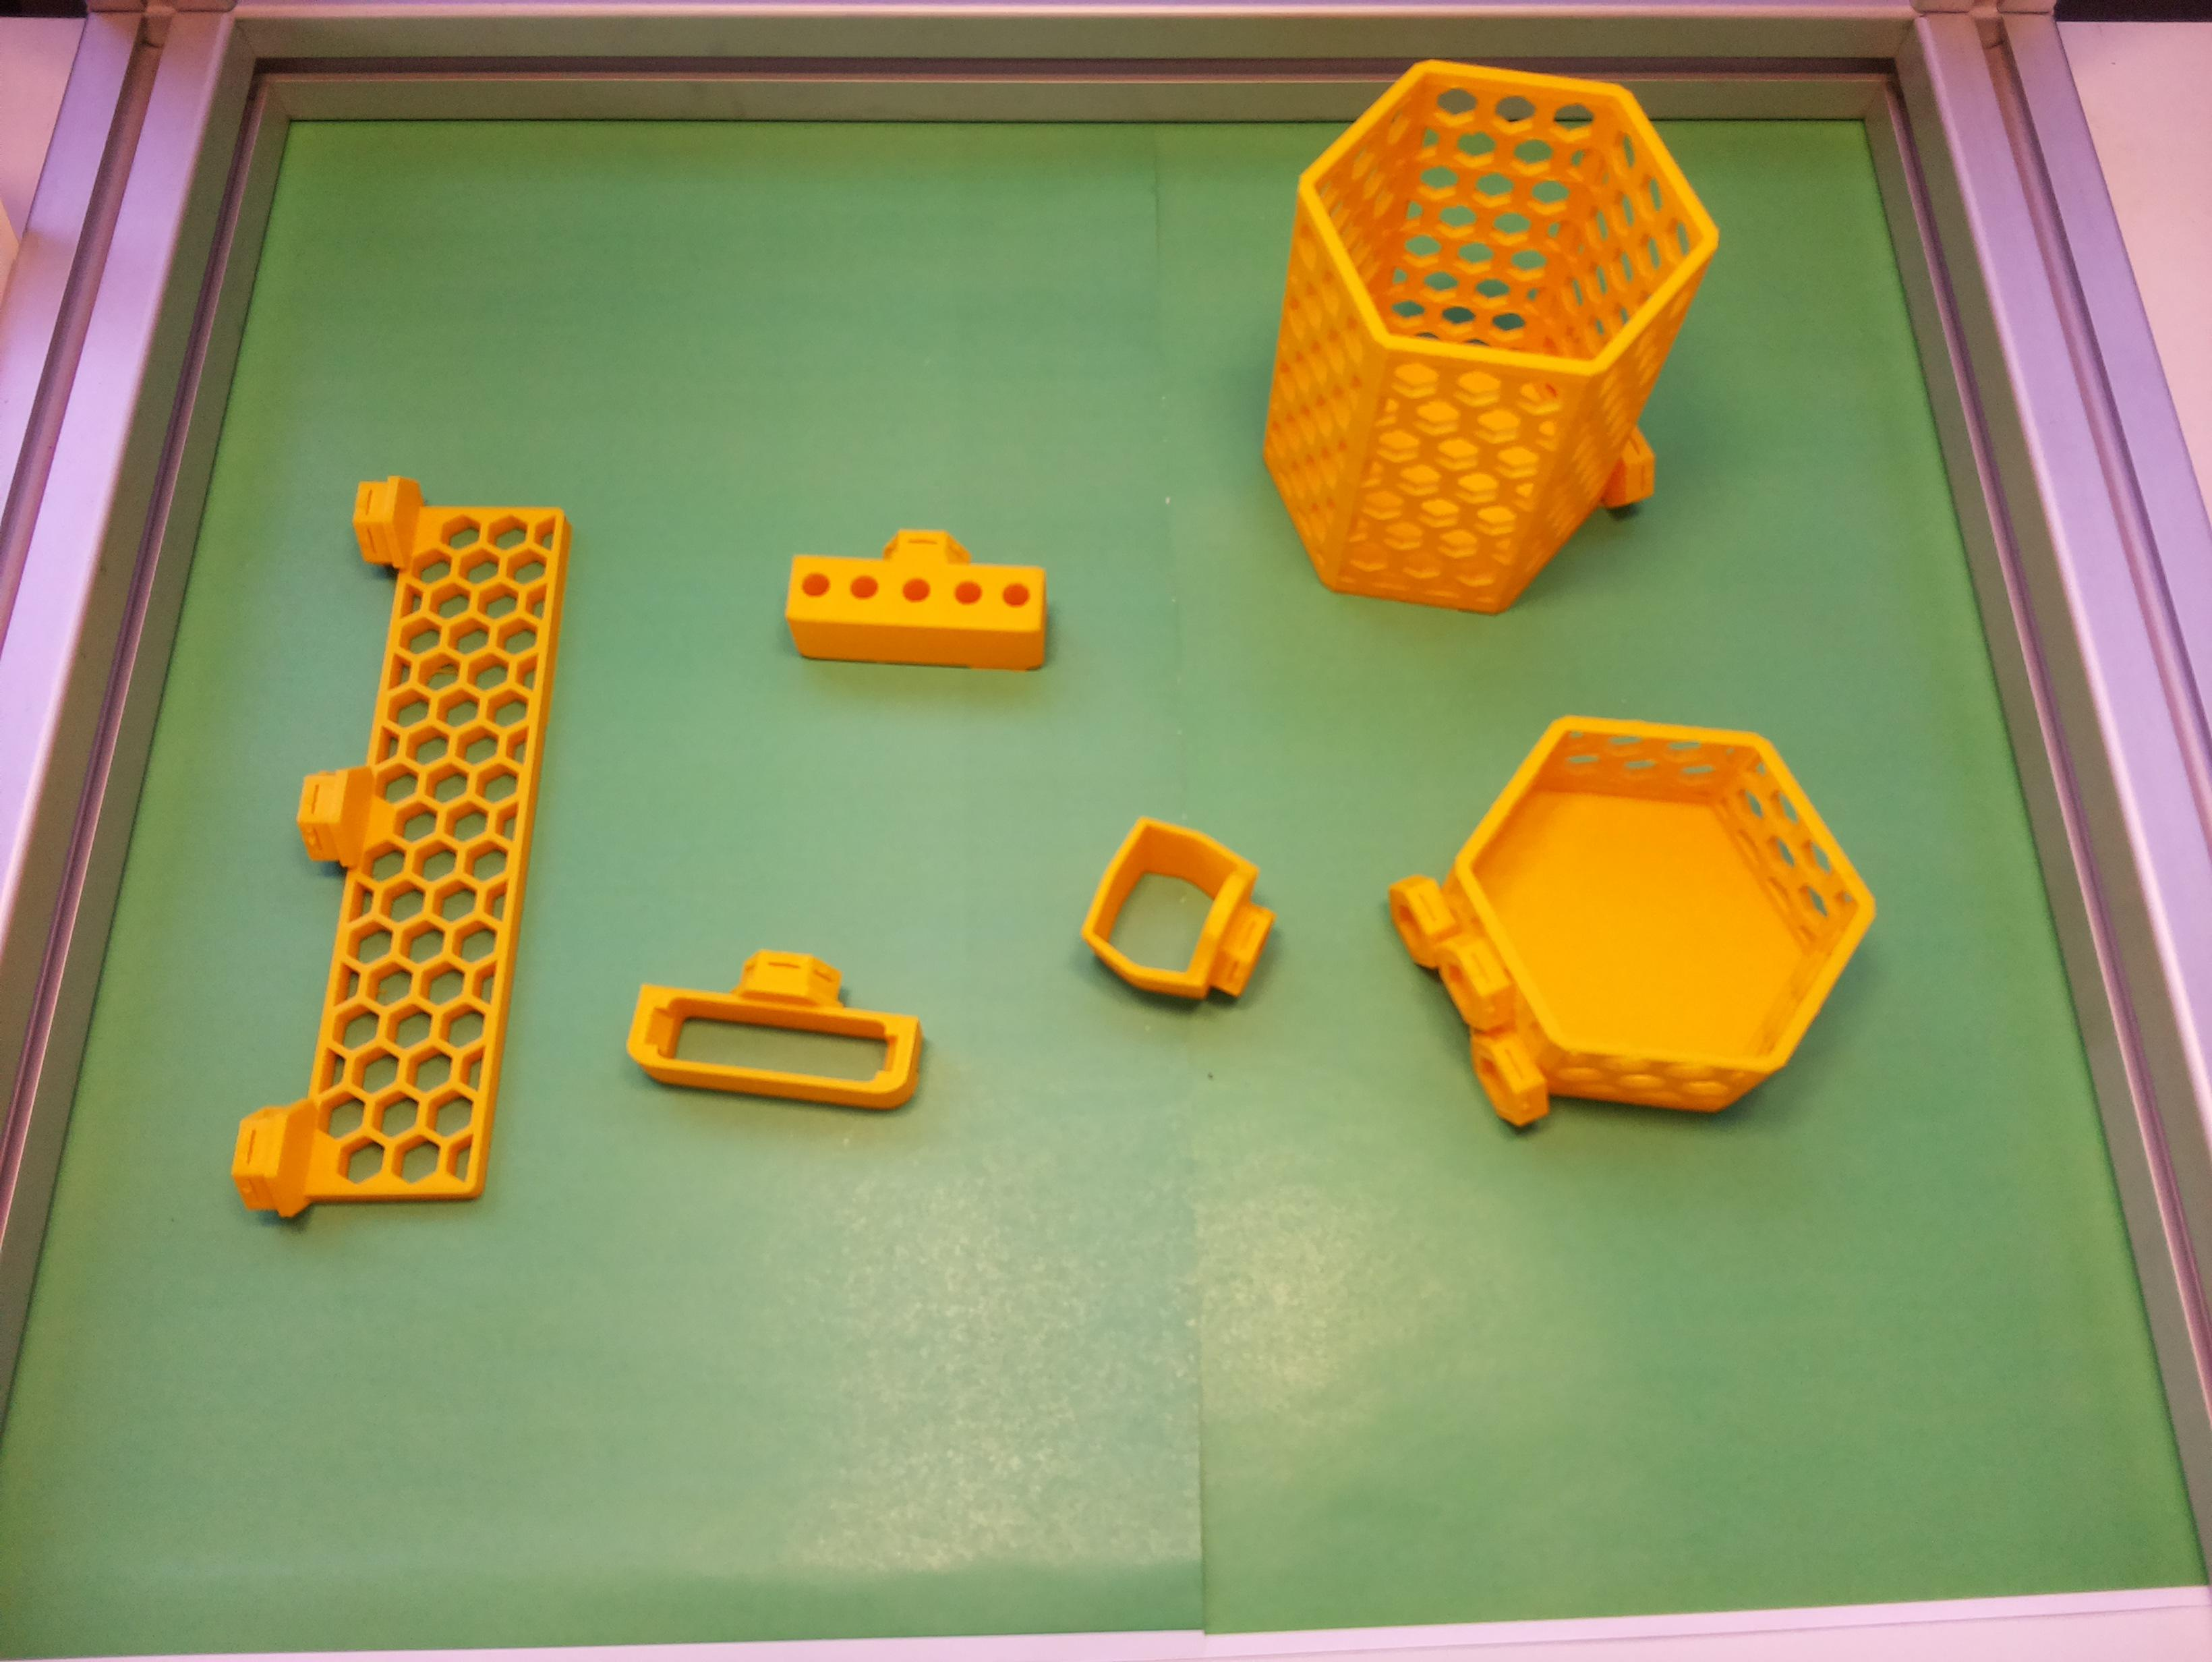bit_holder: (784, 524, 1049, 672)
bottle_holder: (1336, 628, 1924, 1213)
cup_holder: (1247, 44, 1735, 635)
cutter_holder: (623, 934, 931, 1116)
scissor_holder: (1065, 803, 1297, 1030)
tool_holder: (227, 468, 583, 1245)
